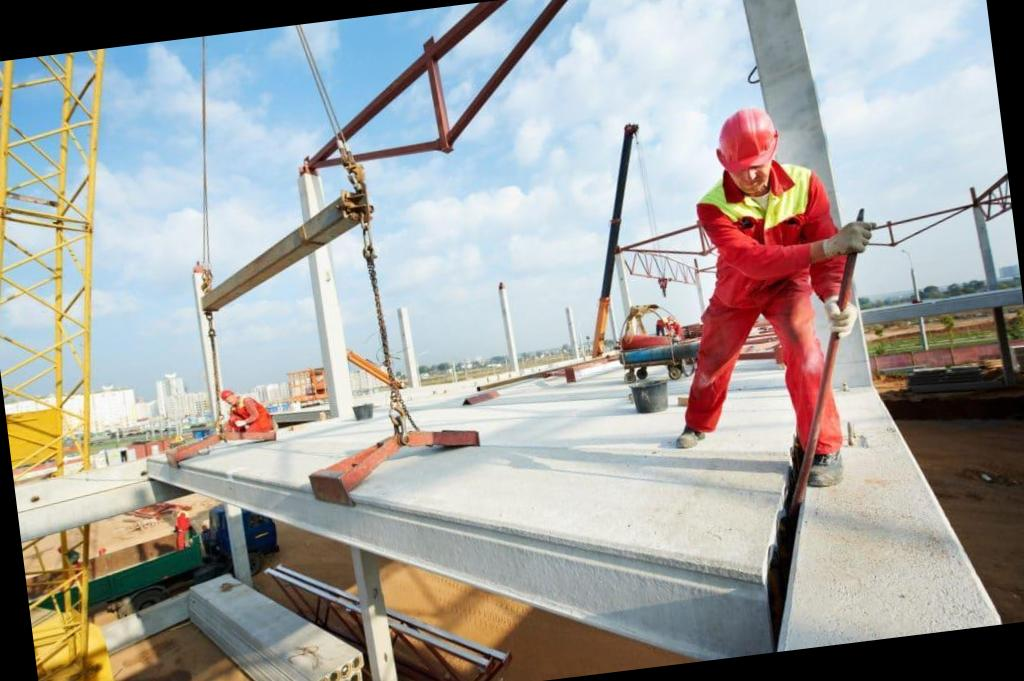Helmet: (703, 105, 788, 180)
Vest: (690, 169, 858, 332)
